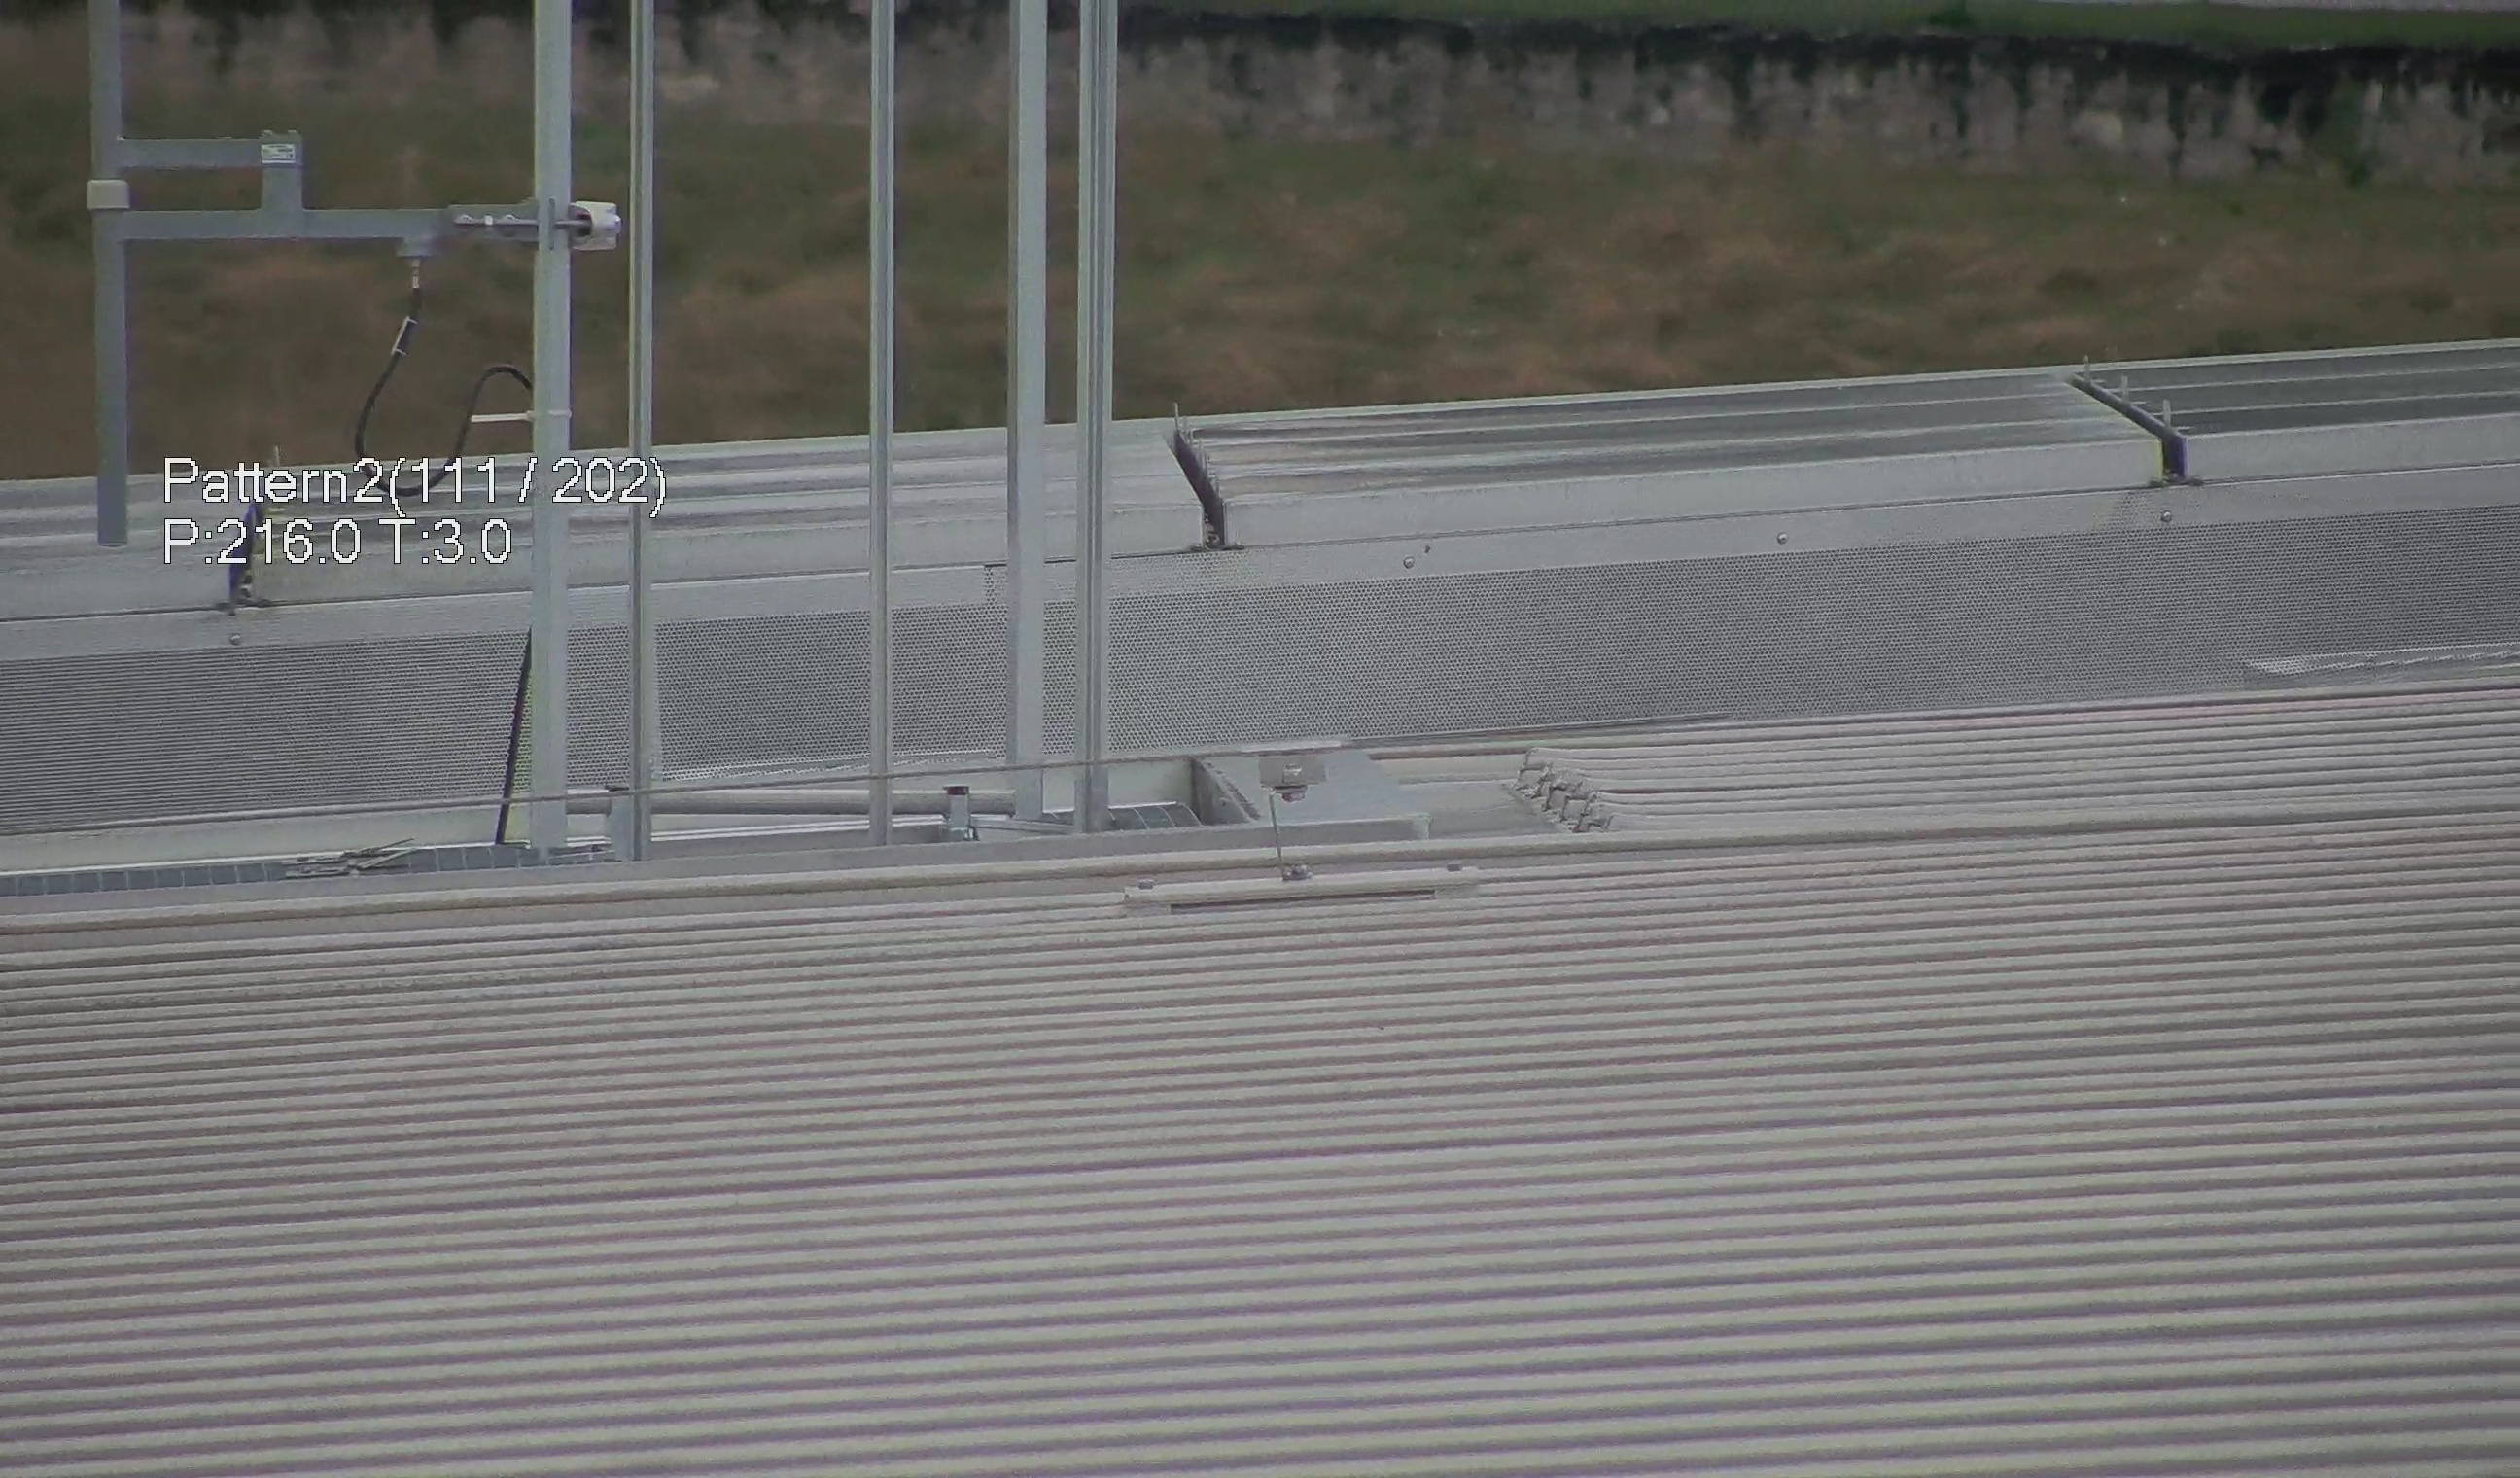Other: (1147, 408, 1245, 561)
